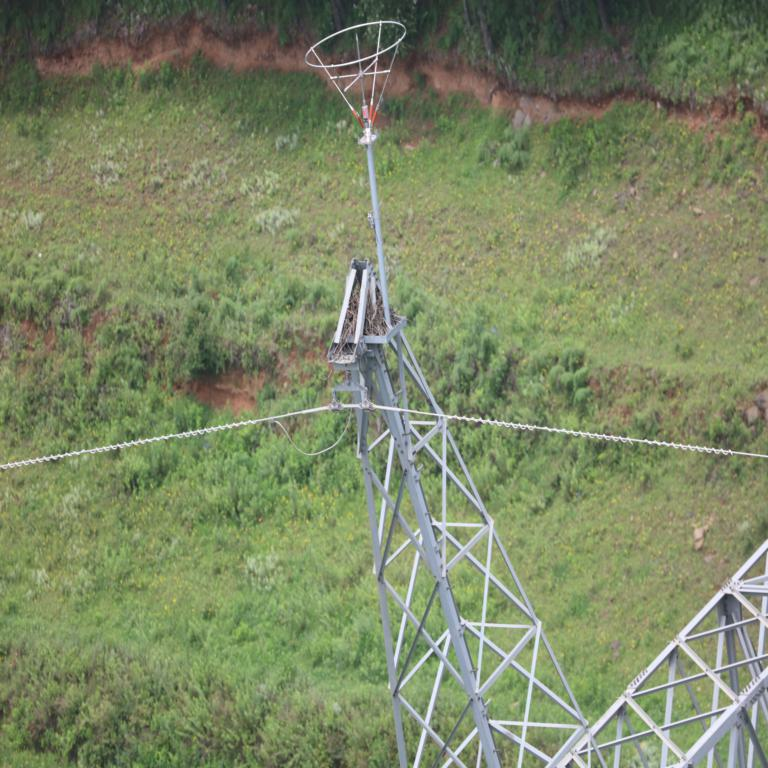nest: (344, 281, 396, 346)
